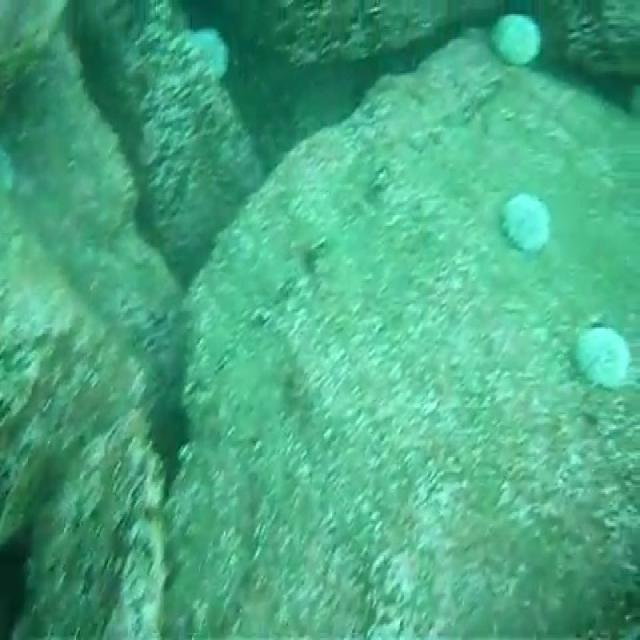Deniz Kestanesi: (498, 175, 559, 264), (572, 311, 633, 398), (488, 13, 545, 70)
